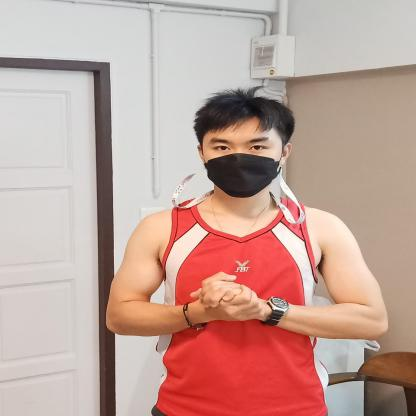Grieve: (168, 267, 302, 342)
